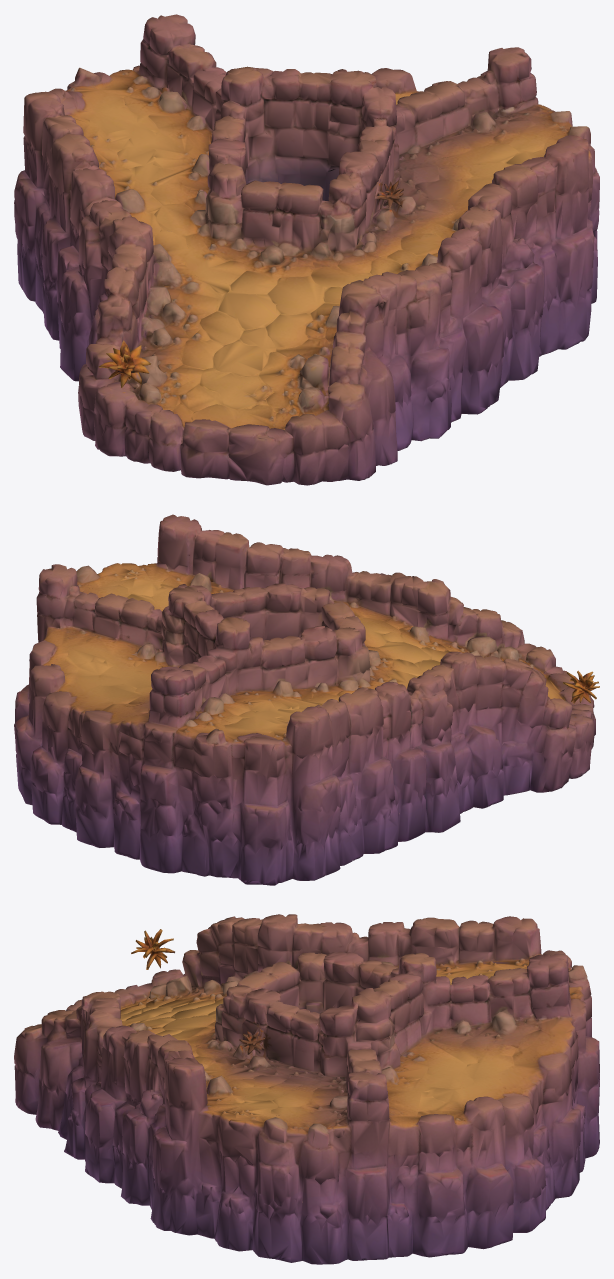
Rendered from bifurcacion_alicanto.glb.
The picture shows the model from 3 angles, top to bottom: view 1: azimuth 30°, elevation 25°; view 2: azimuth 150°, elevation 25°; view 3: azimuth 270°, elevation 25°; orthographic projection. The views are drawn at different scales.
Parts seen in each view (by area): view 1: bifurcacion_alicanto; view 2: bifurcacion_alicanto; view 3: bifurcacion_alicanto.
Part boxes in pixels (bbox=[...]): bifurcacion_alicanto: bbox=[14, 14, 599, 485]; bifurcacion_alicanto: bbox=[14, 514, 599, 885]; bifurcacion_alicanto: bbox=[14, 914, 599, 1264].
Size of what is drawn, in the model's own units: 15.83 by 6 by 16.
1 material, 1 textured.
